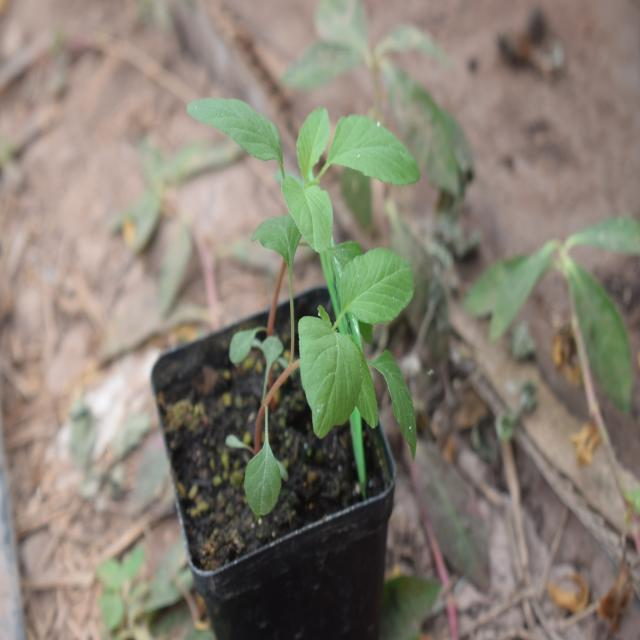pigweed: (193, 96, 435, 266), (255, 253, 441, 462)
